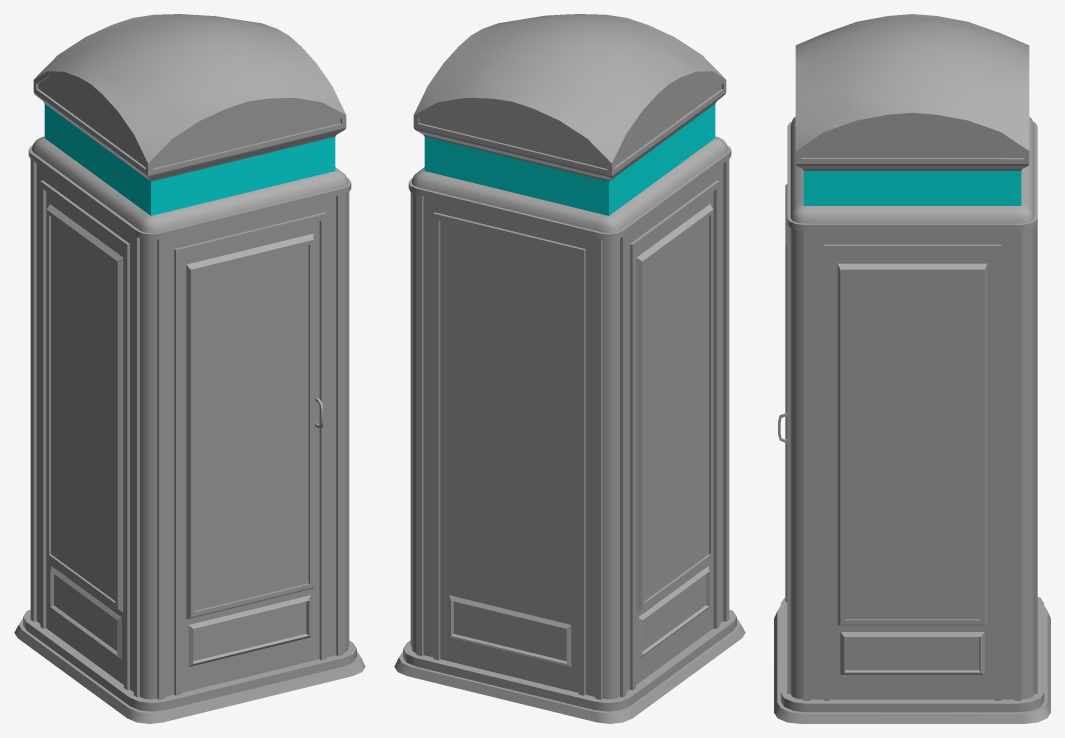
File: MDL_U_Phonebooth_01.fbx
3 views of the same model, side by side, from view 1: azimuth 30°, elevation 25°; view 2: azimuth 150°, elevation 25°; view 3: azimuth 270°, elevation 25° (orthographic). The views are drawn at different scales.
Visible parts, largest first — view 1: MDL_U_Phonebooth_01; view 2: MDL_U_Phonebooth_01; view 3: MDL_U_Phonebooth_01.
Part boxes in pixels (box(x1,y1,x2,y2)): MDL_U_Phonebooth_01: box(14, 14, 365, 723); MDL_U_Phonebooth_01: box(394, 14, 745, 723); MDL_U_Phonebooth_01: box(774, 14, 1050, 723).
Bounding box in the file's own units: 105 × 262 × 105.
